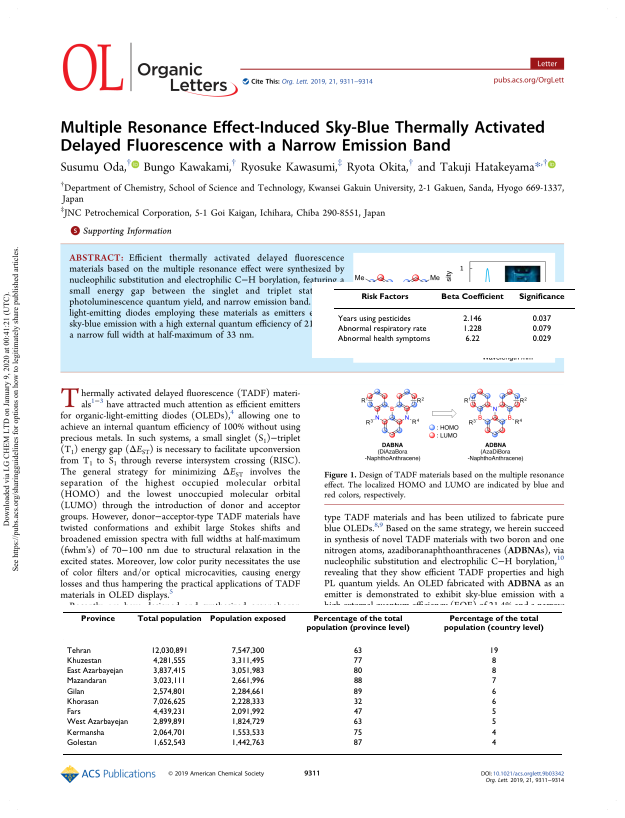borderless: (62, 610, 562, 754), (332, 287, 576, 352)
cell: (305, 615, 410, 633), (443, 615, 544, 633), (337, 334, 431, 344), (337, 324, 427, 334), (209, 615, 286, 624), (337, 314, 411, 323), (136, 615, 202, 624), (65, 718, 129, 727), (440, 292, 504, 301), (65, 667, 124, 676), (360, 292, 409, 301), (518, 292, 565, 301), (65, 728, 105, 738), (150, 646, 188, 656), (65, 677, 107, 686), (65, 656, 102, 666), (230, 646, 265, 656), (230, 656, 265, 666), (230, 687, 265, 697), (230, 697, 265, 707), (230, 728, 265, 738), (230, 738, 265, 748), (152, 656, 186, 666), (152, 687, 186, 697), (65, 697, 99, 707), (152, 697, 186, 707), (152, 728, 186, 738), (152, 738, 186, 748), (65, 738, 97, 748), (80, 615, 115, 624), (230, 667, 265, 676), (230, 677, 265, 686), (230, 708, 265, 717), (230, 718, 265, 727), (152, 667, 186, 676), (152, 677, 186, 686), (152, 708, 186, 717), (152, 718, 186, 727), (65, 646, 91, 656), (531, 324, 552, 334), (531, 334, 552, 344), (65, 687, 85, 697), (462, 324, 482, 334), (531, 314, 552, 323), (462, 314, 482, 323), (464, 334, 480, 344), (65, 708, 81, 717), (352, 646, 363, 656), (488, 646, 499, 656), (352, 656, 363, 666), (352, 687, 363, 697), (352, 697, 363, 707), (352, 728, 363, 738), (352, 738, 363, 748), (352, 667, 363, 676), (352, 677, 363, 686), (352, 708, 363, 717), (352, 718, 363, 727), (490, 697, 497, 707), (490, 738, 497, 748), (490, 667, 497, 676), (490, 677, 497, 686), (490, 708, 497, 717), (490, 718, 497, 727), (490, 656, 496, 666), (490, 687, 496, 697), (490, 728, 496, 738)
